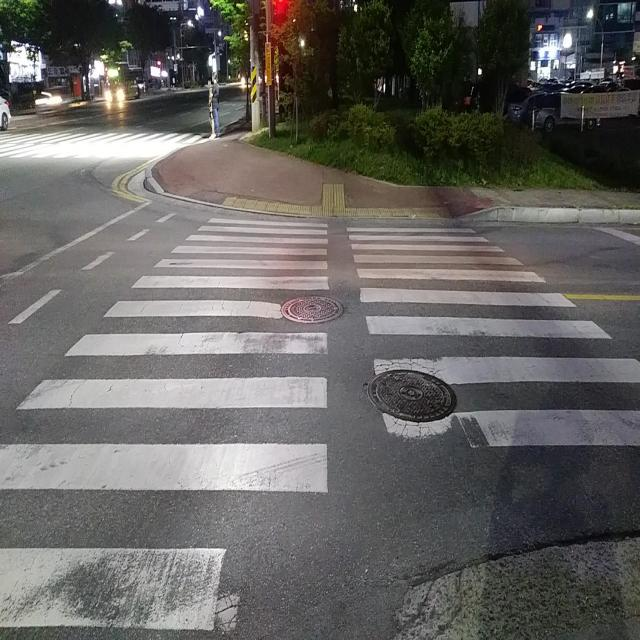횡단보도: (0, 215, 640, 640)
